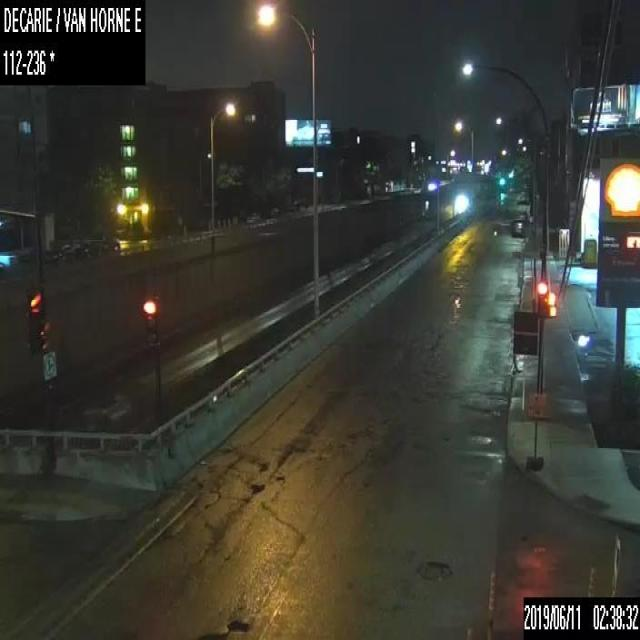construction: (526, 390, 544, 468), (486, 569, 494, 639), (586, 563, 596, 596), (464, 625, 472, 639)
vehicle: (78, 398, 132, 430), (511, 218, 526, 235)
